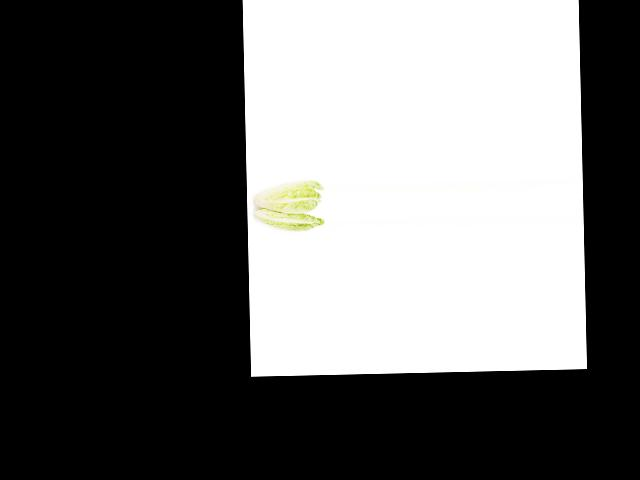lettuce: (249, 205, 325, 239)
